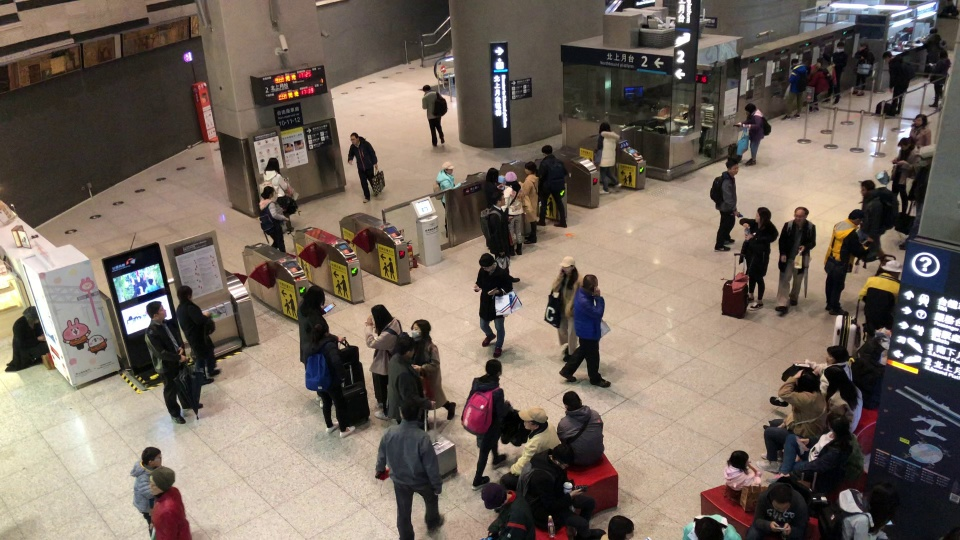person_head: (869, 480, 900, 520), (147, 465, 176, 495), (480, 482, 507, 510), (518, 406, 547, 430), (823, 364, 849, 390), (695, 516, 723, 540), (608, 515, 634, 540), (769, 485, 792, 511), (553, 444, 575, 470), (826, 414, 850, 435), (795, 372, 820, 392), (825, 345, 849, 365), (140, 446, 162, 467), (304, 285, 325, 307), (370, 303, 391, 325), (398, 398, 419, 420), (396, 336, 416, 359), (562, 390, 583, 411), (410, 318, 432, 338), (145, 300, 167, 319), (729, 449, 749, 467), (479, 252, 496, 272), (884, 259, 902, 277), (485, 359, 503, 376), (582, 273, 599, 291), (794, 205, 810, 224), (22, 305, 39, 322), (755, 206, 772, 223), (175, 285, 193, 301), (859, 179, 875, 197), (313, 322, 330, 337), (560, 255, 575, 272), (848, 209, 863, 225), (725, 158, 739, 175), (265, 157, 280, 172), (485, 167, 499, 182), (492, 192, 506, 206), (260, 186, 275, 199), (524, 160, 537, 174), (897, 136, 911, 149), (918, 153, 932, 166), (505, 170, 517, 185), (442, 160, 454, 174), (744, 101, 756, 115), (598, 120, 611, 132), (914, 113, 927, 125), (541, 144, 553, 156), (881, 50, 892, 62), (350, 131, 359, 144), (835, 41, 845, 51), (938, 50, 948, 60), (422, 83, 431, 92), (859, 40, 868, 49), (790, 57, 799, 65), (929, 27, 938, 33), (806, 64, 812, 72)
person_vbox: (374, 398, 446, 540), (515, 444, 606, 540), (764, 413, 865, 489), (755, 372, 828, 475), (144, 300, 204, 425), (761, 364, 863, 435), (460, 359, 511, 490), (557, 273, 611, 389), (304, 322, 356, 438), (296, 285, 345, 408), (822, 209, 878, 315), (363, 304, 410, 420), (409, 318, 457, 430), (498, 405, 561, 490), (769, 345, 853, 407), (817, 480, 901, 540), (175, 284, 221, 387), (387, 336, 436, 431), (774, 206, 817, 314), (472, 252, 513, 359), (738, 207, 779, 312), (479, 192, 520, 284), (745, 482, 810, 540), (557, 390, 605, 467), (857, 259, 903, 336), (551, 255, 583, 363), (146, 465, 192, 540), (479, 482, 535, 540), (898, 153, 932, 248), (4, 306, 50, 374), (709, 157, 739, 252), (262, 157, 297, 234), (536, 144, 568, 228), (129, 446, 162, 525), (859, 178, 898, 244), (590, 120, 623, 195), (734, 102, 772, 167), (432, 159, 463, 238), (891, 137, 920, 214), (347, 132, 378, 203), (882, 50, 916, 114), (258, 186, 290, 253), (503, 170, 527, 256), (723, 449, 761, 502), (517, 161, 539, 244), (780, 57, 808, 121), (821, 41, 848, 105), (421, 84, 448, 147), (681, 513, 742, 540), (848, 40, 875, 96), (805, 62, 833, 113), (928, 50, 951, 108), (909, 113, 932, 149), (484, 167, 504, 206), (922, 25, 946, 53)
